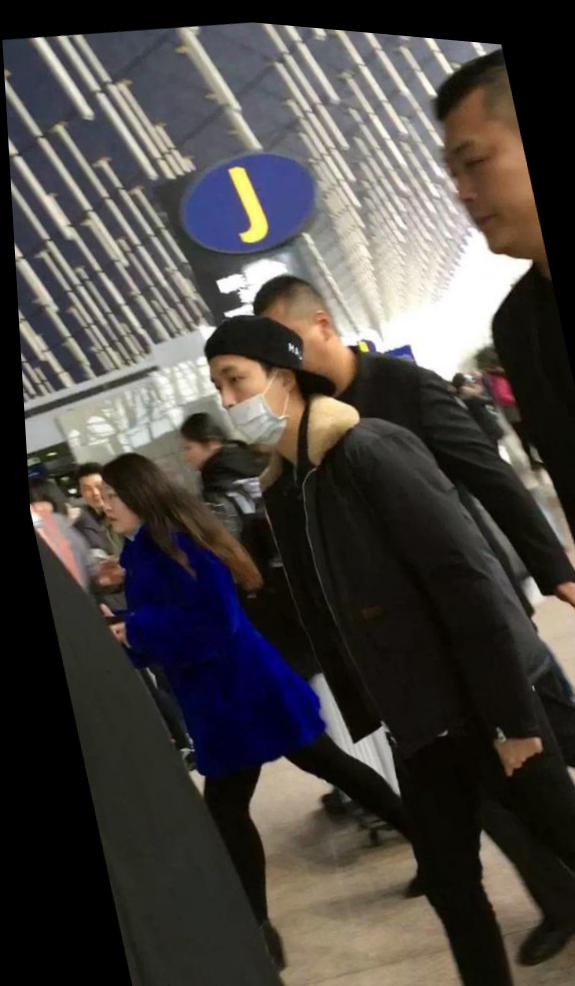NONE: (435, 109, 545, 262), (91, 475, 141, 539)
WRONG: (198, 342, 303, 453)
